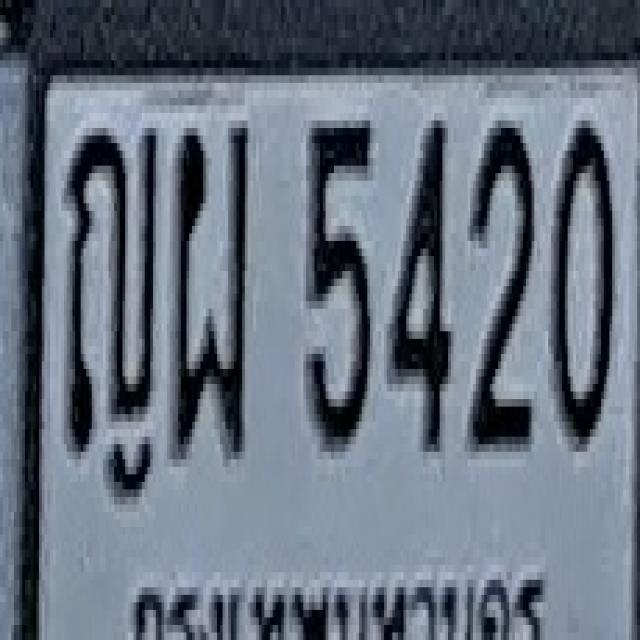0: (551, 113, 612, 437)
2: (468, 117, 534, 440)
4: (388, 109, 449, 448)
5: (304, 109, 372, 448)
A13: (66, 120, 158, 452)
A28: (171, 117, 249, 456)
